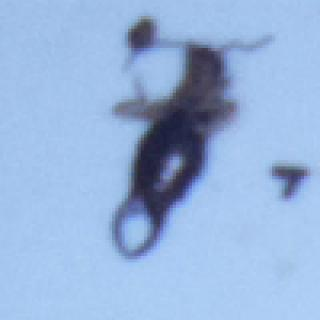earwig: (108, 30, 277, 260)
